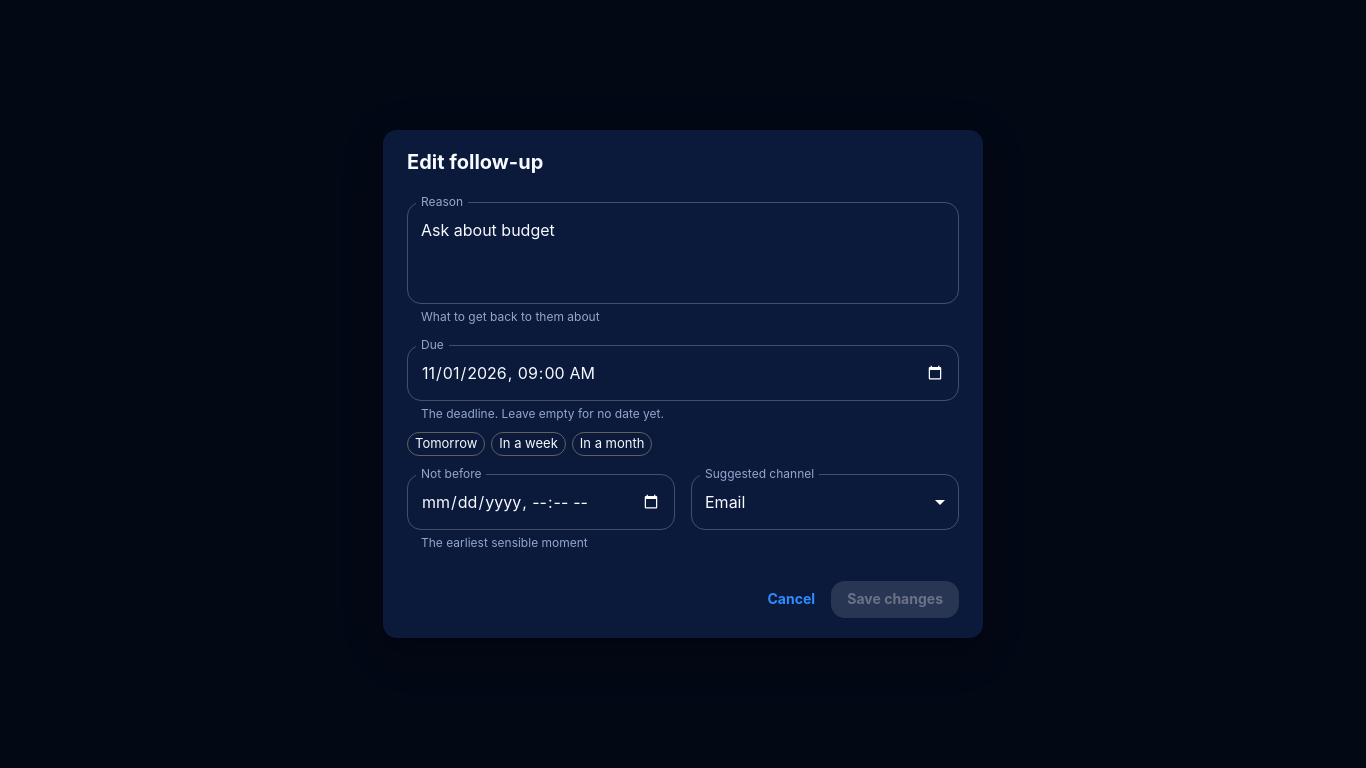
Test: FollowUpForm (editing) › explains that a finished follow-up cannot change
Replace the text in the text box labelled "Reason" with "New" at (683, 253), box [421,219,945,288]
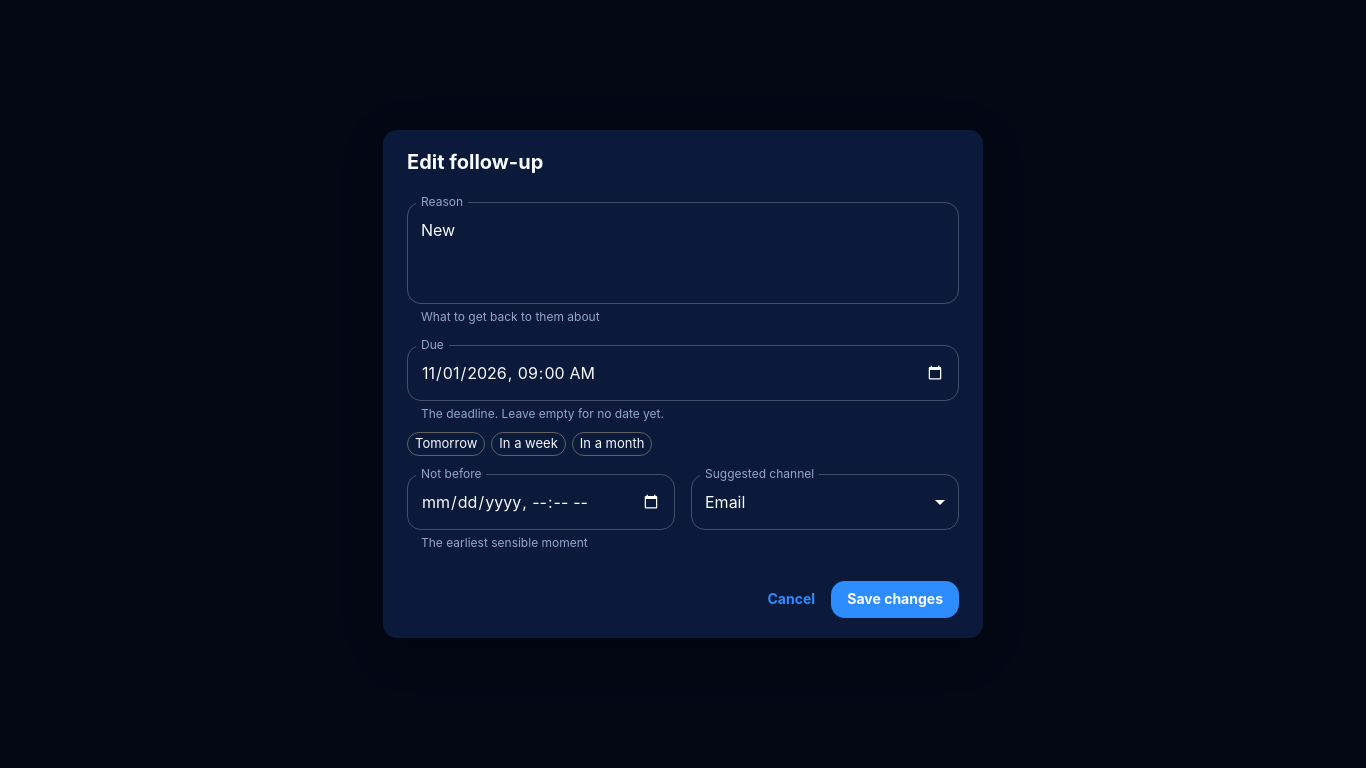
Click the button "Save changes".
click(895, 599)  # box [831,581,959,618]
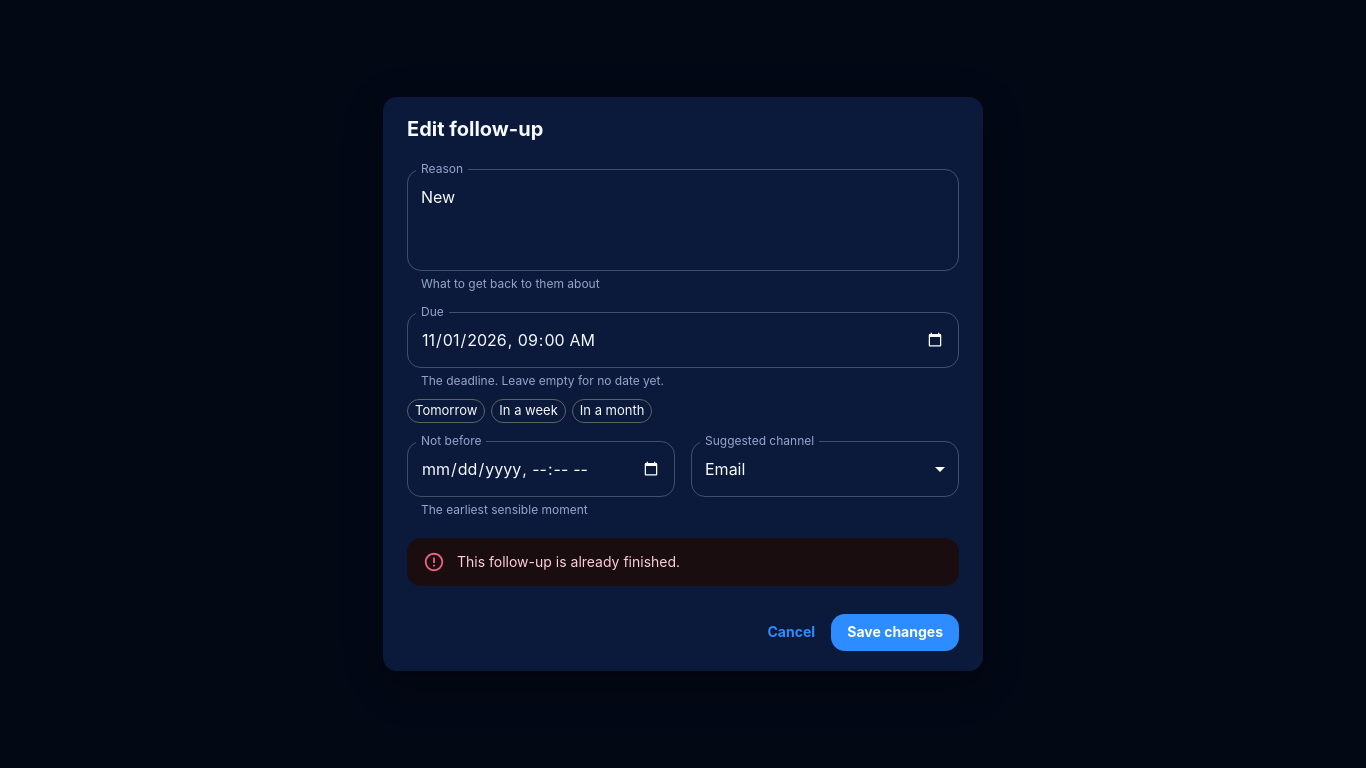
Result: the text "This follow-up is already finished." is shown at [457,553,680,570]
